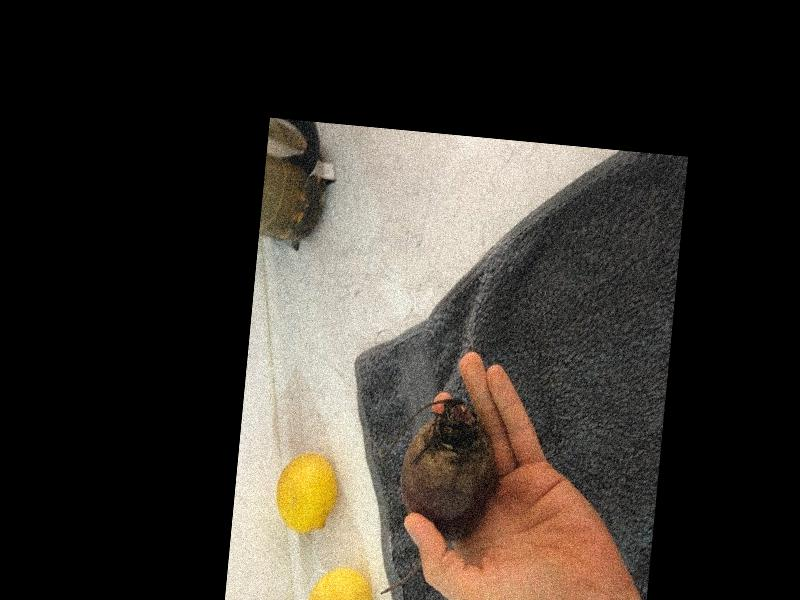Beet: (380, 394, 502, 600)
